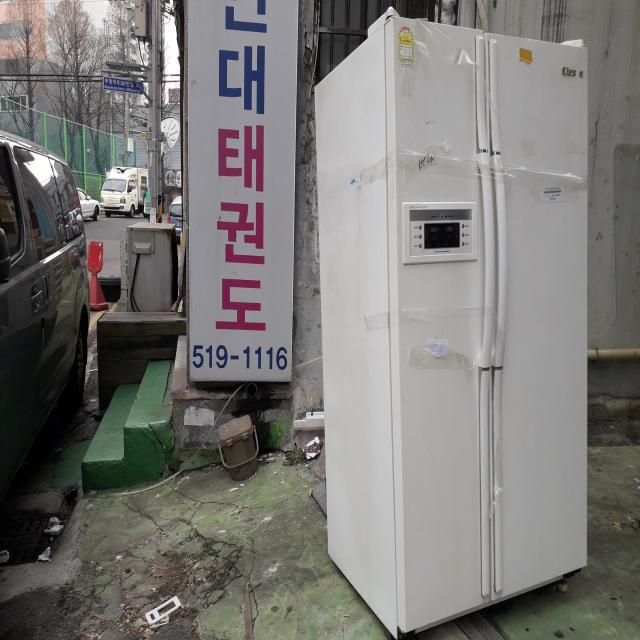refrigerator: (310, 3, 592, 637)
